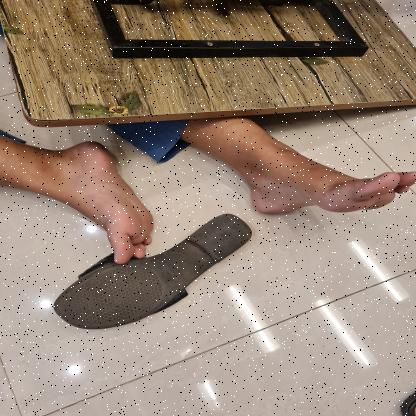leg: (185, 120, 416, 223), (0, 129, 161, 266)
